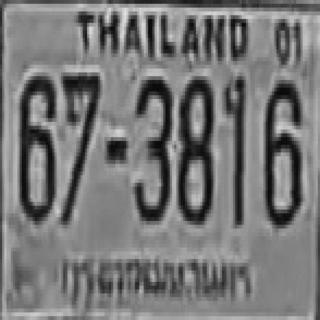N01: (223, 72, 245, 225)
N03: (133, 73, 170, 221)
N06: (264, 76, 300, 225), (18, 73, 54, 221)
N07: (60, 68, 99, 221)
N08: (176, 73, 211, 221)
P04: (55, 240, 262, 316)
